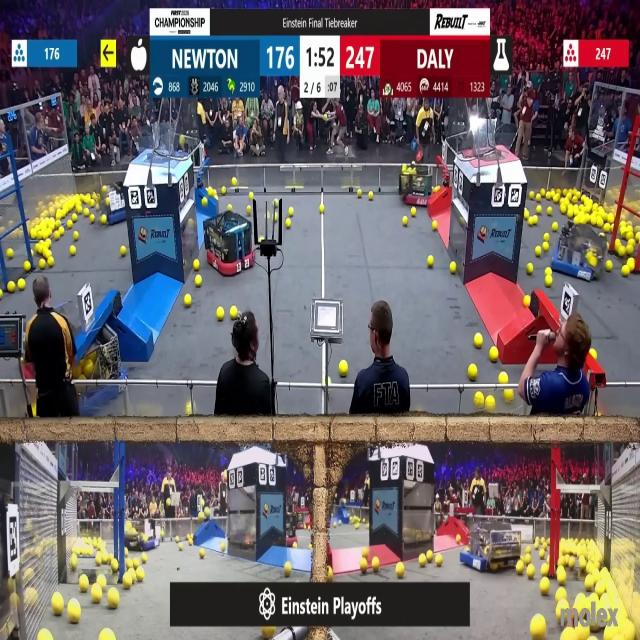ball_ground: (531, 618, 545, 640), (68, 601, 80, 623), (108, 590, 119, 610), (54, 595, 65, 615), (92, 588, 102, 604), (340, 360, 349, 376), (79, 577, 88, 593), (473, 392, 482, 408), (122, 573, 131, 588), (101, 630, 114, 640), (540, 580, 548, 596), (486, 394, 495, 408), (557, 570, 566, 584), (586, 578, 595, 592), (556, 588, 566, 600), (39, 630, 51, 640), (474, 335, 482, 349), (468, 364, 476, 378), (396, 563, 404, 577), (136, 568, 144, 582), (503, 389, 512, 401), (526, 566, 535, 578), (216, 308, 224, 321), (370, 558, 378, 571), (70, 556, 78, 569), (32, 242, 40, 255), (562, 630, 572, 640), (491, 348, 498, 362), (284, 562, 291, 576), (627, 244, 635, 256), (99, 574, 107, 586), (628, 257, 636, 269), (517, 562, 525, 574), (184, 293, 191, 306), (499, 373, 507, 384), (540, 565, 548, 576), (434, 555, 442, 566), (619, 246, 627, 257), (578, 558, 586, 569), (524, 295, 531, 307), (419, 555, 426, 567), (185, 406, 192, 418), (111, 560, 118, 572), (544, 276, 551, 287), (360, 559, 367, 570), (7, 282, 14, 293), (605, 262, 612, 273), (568, 557, 575, 568), (451, 263, 457, 275), (232, 307, 238, 319), (427, 552, 433, 564), (17, 280, 24, 290), (194, 276, 201, 286), (39, 261, 46, 271), (623, 268, 630, 278), (6, 249, 13, 259), (141, 554, 148, 564), (529, 215, 536, 225), (525, 554, 532, 564), (527, 265, 533, 276), (524, 209, 530, 220), (362, 545, 368, 556), (97, 555, 103, 566), (25, 263, 31, 273), (192, 262, 198, 272), (70, 246, 76, 256), (535, 246, 541, 256), (47, 257, 53, 267), (591, 350, 597, 360), (560, 205, 566, 215), (101, 215, 107, 225), (286, 218, 292, 228), (604, 222, 610, 232), (128, 559, 134, 569), (199, 512, 205, 522), (568, 207, 574, 217), (82, 208, 89, 216), (557, 607, 562, 618), (539, 551, 545, 560), (542, 243, 548, 252), (68, 219, 74, 228), (60, 226, 66, 235), (134, 559, 140, 568), (608, 214, 614, 223), (428, 256, 433, 266), (120, 246, 125, 256), (201, 550, 206, 560), (203, 198, 208, 208), (56, 230, 61, 240), (44, 250, 51, 257), (220, 542, 226, 550), (356, 189, 362, 197), (220, 186, 226, 194), (616, 240, 622, 248), (45, 240, 51, 248), (402, 216, 407, 225), (319, 205, 324, 214), (123, 549, 128, 558), (32, 408, 36, 419), (246, 207, 252, 214), (208, 188, 214, 195), (412, 208, 417, 216), (432, 220, 436, 230), (553, 222, 558, 230), (545, 269, 550, 277), (367, 190, 372, 198), (288, 208, 293, 216), (543, 234, 548, 242), (0, 289, 4, 299), (275, 200, 280, 208), (635, 233, 640, 241), (564, 600, 568, 609), (328, 569, 332, 578), (546, 208, 551, 215), (456, 535, 461, 542), (536, 207, 541, 214), (233, 178, 238, 185), (535, 193, 540, 200), (326, 378, 331, 385), (93, 191, 98, 198), (74, 233, 78, 241), (179, 542, 183, 550), (530, 190, 534, 198), (72, 214, 76, 222), (92, 200, 96, 208), (92, 215, 96, 222), (275, 214, 279, 221), (292, 541, 296, 548), (227, 205, 231, 212), (250, 191, 253, 199), (188, 538, 192, 544), (176, 536, 180, 542), (356, 524, 360, 530)
goal: (465, 121, 520, 160), (130, 130, 188, 160)
robot_blue: (65, 324, 126, 411), (462, 515, 523, 571), (552, 222, 602, 282), (96, 178, 126, 224), (126, 520, 162, 550)
robot_red: (204, 212, 254, 277), (399, 162, 432, 205), (285, 513, 297, 546)
